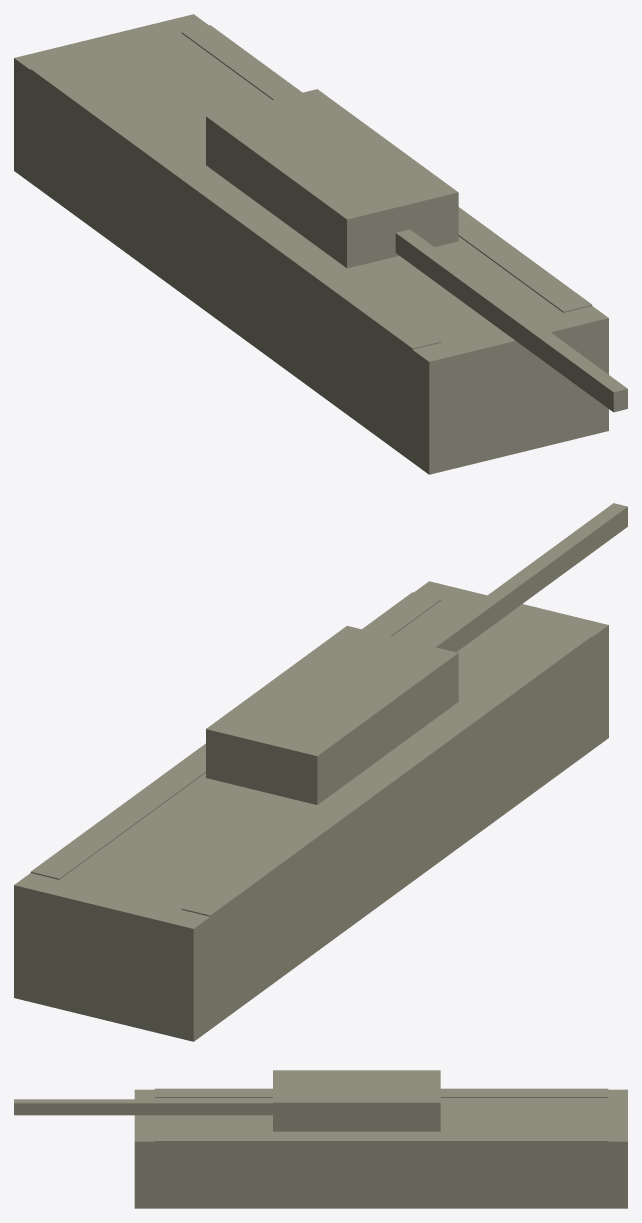
3 renders of one model, top to bottom at view 1: azimuth 30°, elevation 25°; view 2: azimuth 150°, elevation 25°; view 3: azimuth 270°, elevation 25°, orthographic. The views are drawn at different scales.
Visible parts, largest first — view 1: Hull, Track_L, Turret, Gun, Track_R; view 2: Hull, Track_L, Turret, Gun, Track_R; view 3: Hull, Track_R, Turret, Gun, Track_L.
Part boxes in pixels (x1=…): Hull: x1=14, y1=14, x2=608, y2=474; Track_L: x1=30, y1=62, x2=441, y2=403; Turret: x1=206, y1=89, x2=458, y2=268; Gun: x1=395, y1=229, x2=627, y2=412; Track_R: x1=181, y1=25, x2=592, y2=312; Hull: x1=14, y1=581, x2=608, y2=1041; Track_L: x1=181, y1=629, x2=592, y2=970; Turret: x1=206, y1=625, x2=458, y2=804; Gun: x1=421, y1=503, x2=627, y2=652; Track_R: x1=30, y1=592, x2=441, y2=879; Hull: x1=134, y1=1089, x2=627, y2=1208; Track_R: x1=154, y1=1132, x2=608, y2=1173; Turret: x1=273, y1=1070, x2=440, y2=1131; Gun: x1=14, y1=1099, x2=272, y2=1115; Track_L: x1=154, y1=1088, x2=608, y2=1097.
Bounding box in the file's own units: 3 × 2.58 × 14.94.
